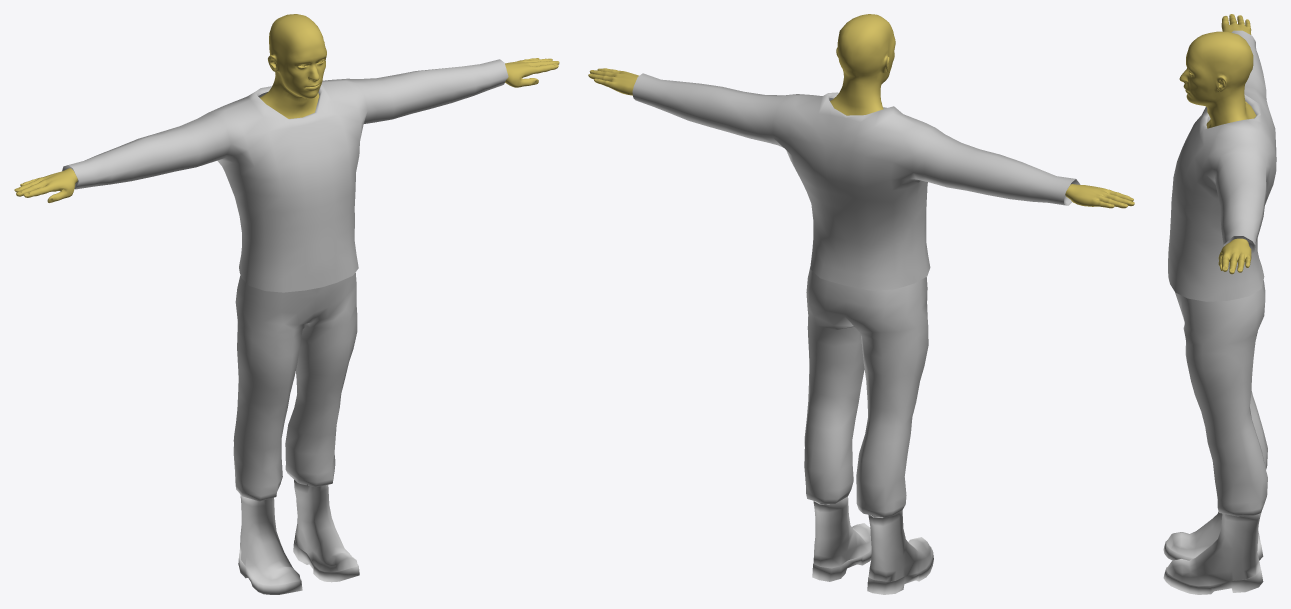
The model's file is Finall_dealer.fbx.
The picture shows the model from 3 angles, left to right: view 1: azimuth 30°, elevation 25°; view 2: azimuth 150°, elevation 25°; view 3: azimuth 270°, elevation 25°; orthographic projection. The views are drawn at different scales.
Parts seen in each view (by area): view 1: jacket, trousers, base_obj, boots_l, boots_r; view 2: jacket, trousers, base_obj, boots_l, boots_r; view 3: jacket, trousers, base_obj, boots_r, boots_l.
Part boxes in pixels (x1,y1,x2,y2): jacket: (62, 59, 508, 292); trousers: (233, 273, 357, 501); base_obj: (14, 14, 559, 202); boots_l: (238, 494, 302, 594); boots_r: (293, 480, 359, 582); jacket: (632, 73, 1080, 290); trousers: (804, 267, 928, 517); base_obj: (588, 14, 1134, 208); boots_l: (867, 510, 933, 594); boots_r: (812, 496, 871, 581); jacket: (1168, 30, 1276, 301); trousers: (1175, 280, 1267, 516); base_obj: (1179, 14, 1256, 274); boots_r: (1163, 512, 1263, 594); boots_l: (1163, 511, 1263, 560).
Bounding box in the file's own units: 190 × 185 × 35.11.
